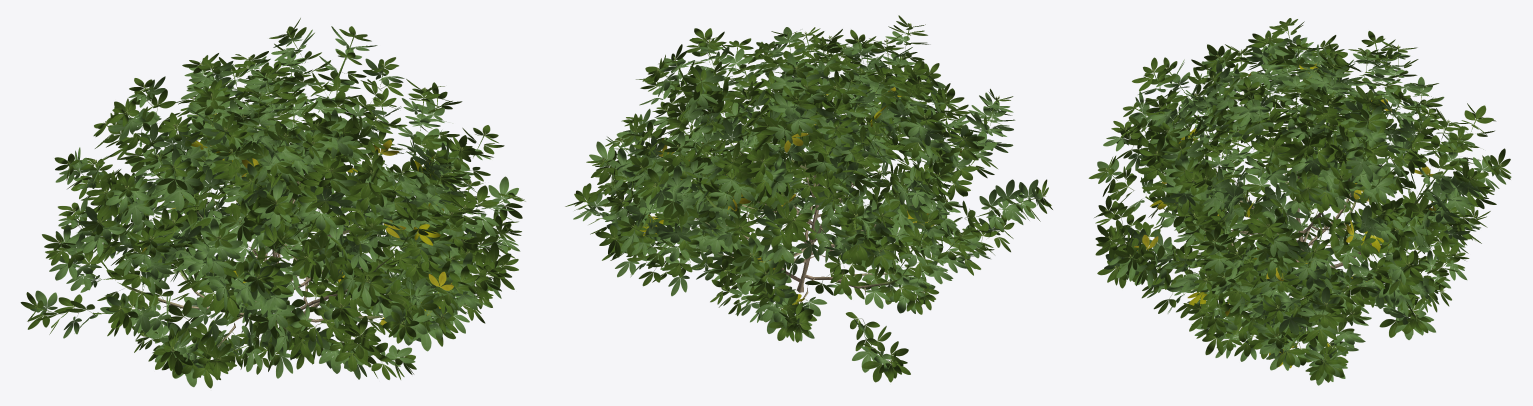
File: arbuste-oranger.glb
3 renders of one model, left to right at view 1: azimuth 30°, elevation 25°; view 2: azimuth 150°, elevation 25°; view 3: azimuth 270°, elevation 25°, orthographic. The views are drawn at different scales.
Parts seen in each view (by area): view 1: Choisya_ternata_HD_Choisya leaf 01_0, Choisya_ternata_HD_Choisya leaf 02 back_0, Choisya_ternata_HD_Choisya bark_0, Choisya_ternata_HD_Choisya twig_0, Choisya_ternata_HD_Choisya bud_0, Choisya_ternata_HD_Choisya leaf 01 dry 1_0, Choisya_ternata_HD_Choisya leaf 02 dry 1 back_0; view 2: Choisya_ternata_HD_Choisya leaf 01_0, Choisya_ternata_HD_Choisya leaf 02 back_0, Choisya_ternata_HD_Choisya bark_0, Choisya_ternata_HD_Choisya twig_0, Choisya_ternata_HD_Choisya bud_0, Choisya_ternata_HD_Choisya leaf 01 dry 1_0; view 3: Choisya_ternata_HD_Choisya leaf 01_0, Choisya_ternata_HD_Choisya leaf 02 back_0, Choisya_ternata_HD_Choisya bark_0, Choisya_ternata_HD_Choisya twig_0, Choisya_ternata_HD_Choisya bud_0, Choisya_ternata_HD_Choisya leaf 01 dry 1_0, Choisya_ternata_HD_Choisya leaf 02 dry 1 back_0.
Part boxes in pixels (left/top/right/bottom): Choisya_ternata_HD_Choisya leaf 01_0: left=20, top=18, right=525, bottom=388; Choisya_ternata_HD_Choisya leaf 02 back_0: left=30, top=26, right=520, bottom=387; Choisya_ternata_HD_Choisya bark_0: left=91, top=96, right=444, bottom=347; Choisya_ternata_HD_Choisya twig_0: left=37, top=34, right=510, bottom=360; Choisya_ternata_HD_Choisya bud_0: left=34, top=30, right=509, bottom=359; Choisya_ternata_HD_Choisya leaf 01 dry 1_0: left=142, top=113, right=453, bottom=325; Choisya_ternata_HD_Choisya leaf 02 dry 1 back_0: left=185, top=137, right=470, bottom=315; Choisya_ternata_HD_Choisya leaf 01_0: left=565, top=15, right=1052, bottom=382; Choisya_ternata_HD_Choisya leaf 02 back_0: left=573, top=27, right=1042, bottom=372; Choisya_ternata_HD_Choisya bark_0: left=649, top=95, right=989, bottom=344; Choisya_ternata_HD_Choisya twig_0: left=586, top=27, right=1035, bottom=361; Choisya_ternata_HD_Choisya bud_0: left=582, top=23, right=1045, bottom=363; Choisya_ternata_HD_Choisya leaf 01 dry 1_0: left=656, top=87, right=934, bottom=269; Choisya_ternata_HD_Choisya leaf 01_0: left=1088, top=18, right=1510, bottom=382; Choisya_ternata_HD_Choisya leaf 02 back_0: left=1096, top=34, right=1511, bottom=385; Choisya_ternata_HD_Choisya bark_0: left=1145, top=76, right=1450, bottom=345; Choisya_ternata_HD_Choisya twig_0: left=1107, top=25, right=1498, bottom=343; Choisya_ternata_HD_Choisya bud_0: left=1105, top=21, right=1501, bottom=361; Choisya_ternata_HD_Choisya leaf 01 dry 1_0: left=1134, top=72, right=1435, bottom=359; Choisya_ternata_HD_Choisya leaf 02 dry 1 back_0: left=1150, top=63, right=1388, bottom=368.
Size of the model in its own units: 1.75 by 1.04 by 1.5.
8 materials, 8 textured.
